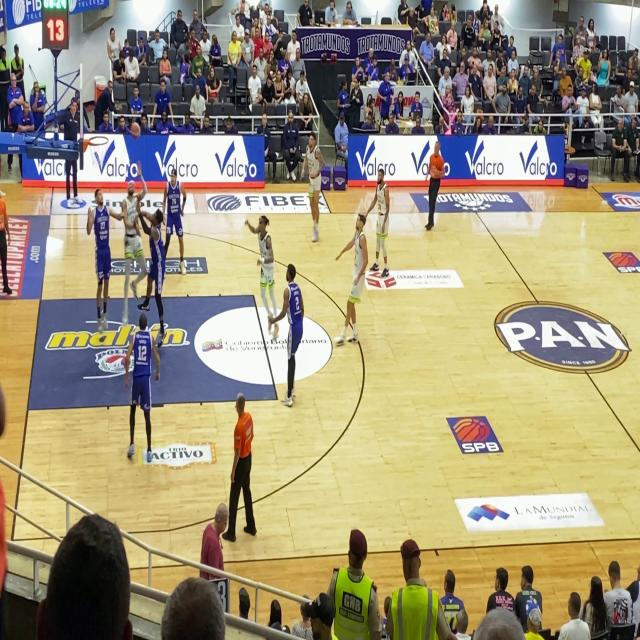Ball: (128, 118, 144, 138)
referee: (226, 379, 264, 562), (422, 130, 447, 248)
team1: (243, 202, 279, 348), (334, 209, 371, 351), (116, 170, 145, 307), (294, 128, 326, 252), (368, 162, 392, 294)
team2: (268, 258, 306, 412), (125, 310, 160, 463), (83, 187, 114, 323), (139, 200, 169, 316), (164, 163, 190, 279)
ubasket: (86, 132, 110, 152)
